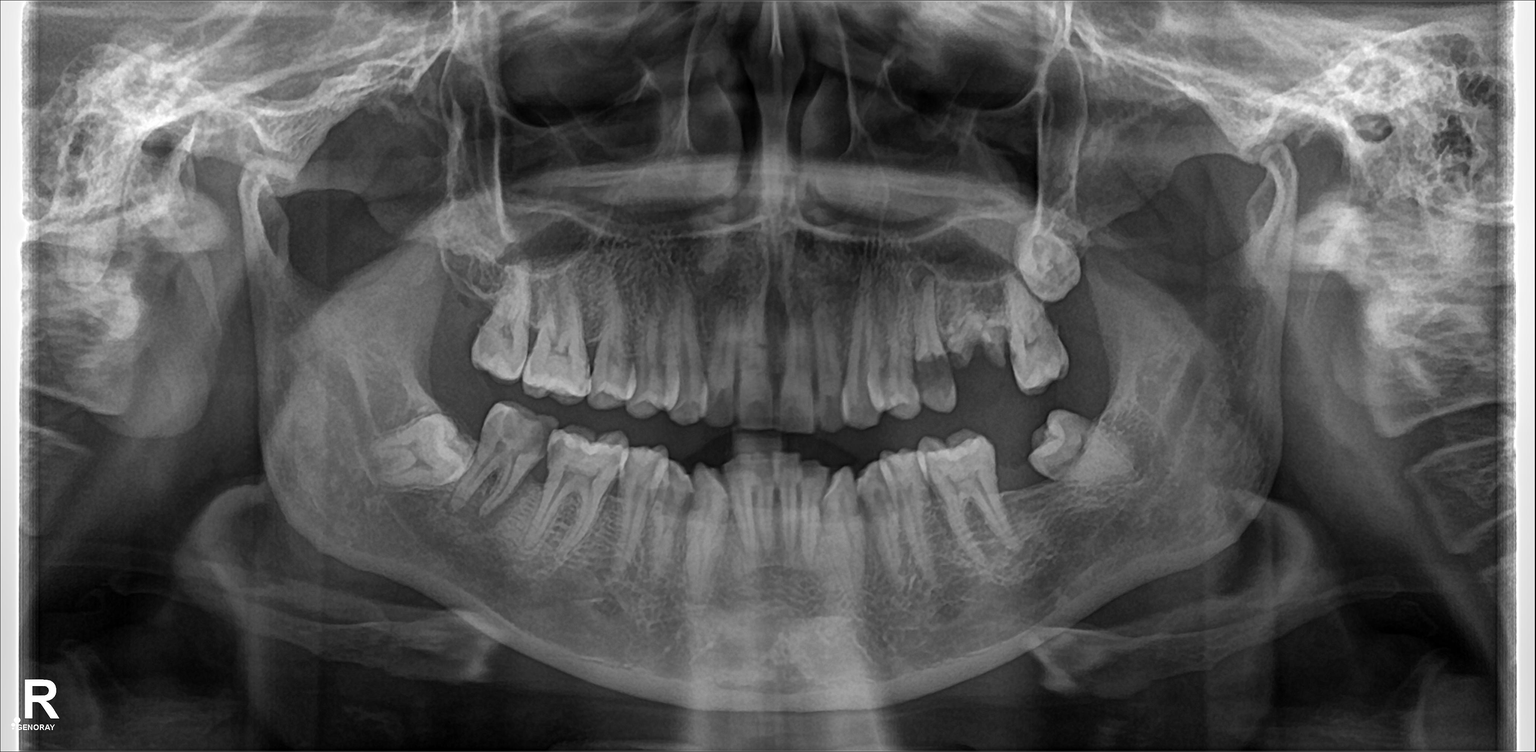Dental Caries: (482, 406, 554, 448), (916, 354, 955, 392)
Impacted Third Molar: (1034, 415, 1126, 483), (372, 426, 468, 483), (1019, 229, 1085, 291)
Missing Tooth: (436, 253, 486, 371), (1002, 441, 1044, 541)
Retained Root: (937, 294, 986, 383), (980, 296, 1009, 374)
